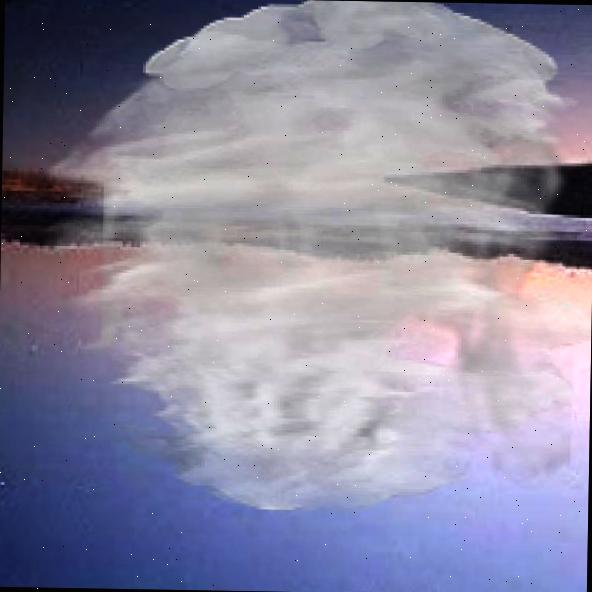smoke: (32, 0, 592, 518)
